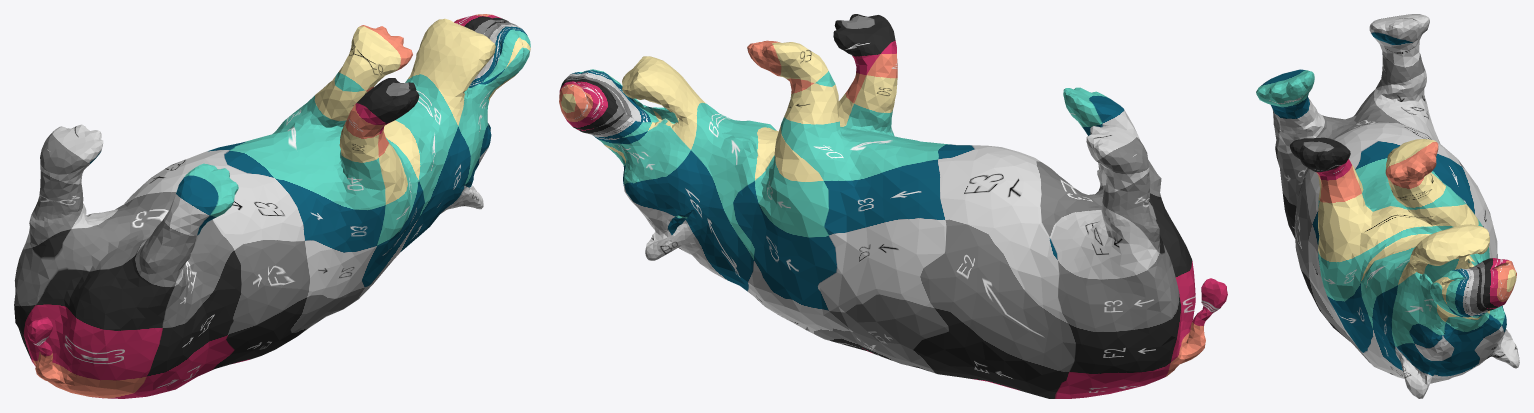
The model's file is dog_05-hippo_01.obj.
3 views of the same model, side by side, from view 1: azimuth 30°, elevation 25°; view 2: azimuth 150°, elevation 25°; view 3: azimuth 270°, elevation 25° (orthographic). The views are drawn at different scales.
Visible parts, largest first — view 1: dog_05-hippo_01_export; view 2: dog_05-hippo_01_export; view 3: dog_05-hippo_01_export.
Boxes of the visible parts, x1=… form: dog_05-hippo_01_export: x1=14, y1=14, x2=530, y2=398; dog_05-hippo_01_export: x1=559, y1=14, x2=1227, y2=398; dog_05-hippo_01_export: x1=1256, y1=14, x2=1519, y2=398.
Size of the model in its own units: 0.982 by 0.4752 by 0.402.
